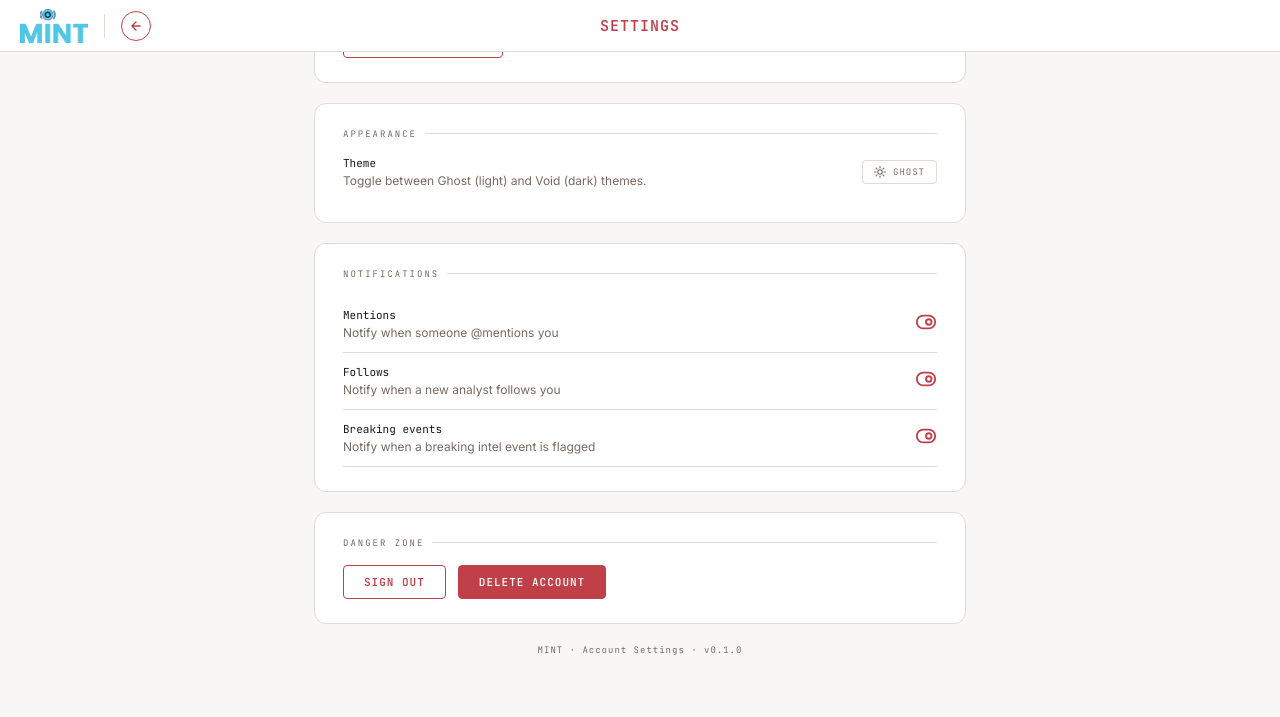
it: SettingsPage › CANCEL in confirmation panel hides it again
(page scrolled)
Click the button "DELETE ACCOUNT" at (532, 582), box [458,565,606,599]
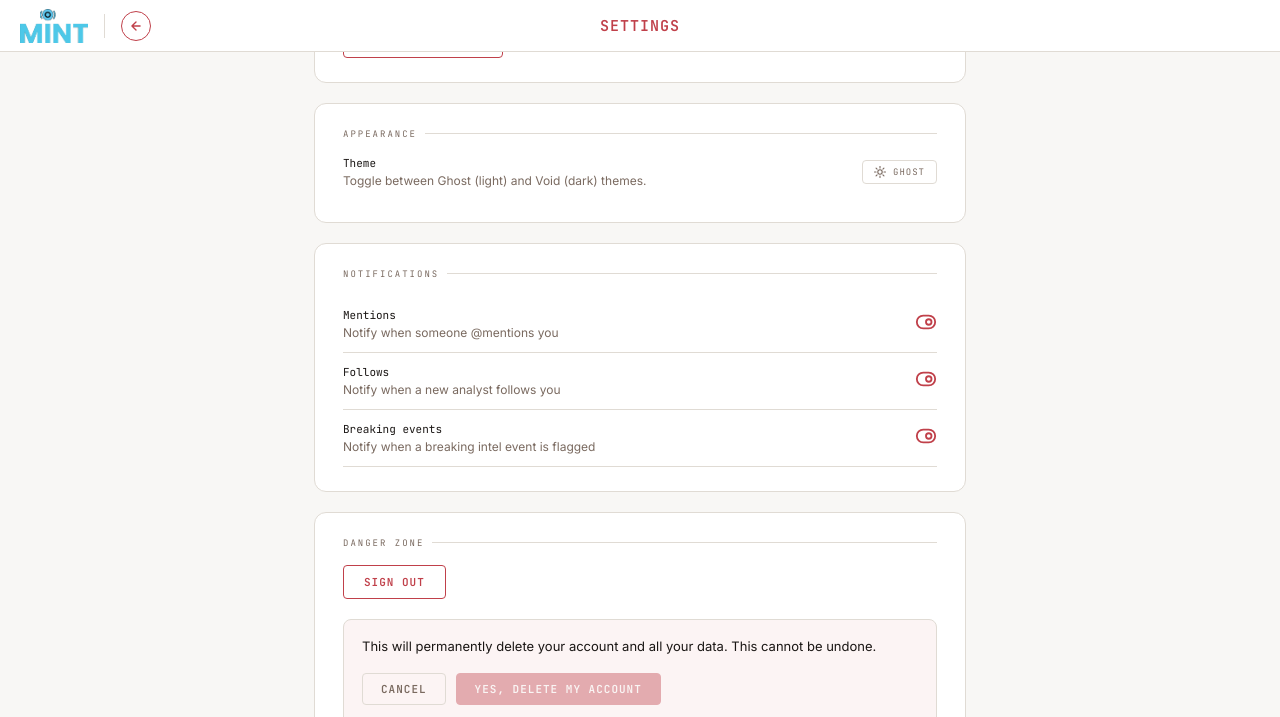
Click the button "CANCEL" at (404, 689), box [362,673,446,705]
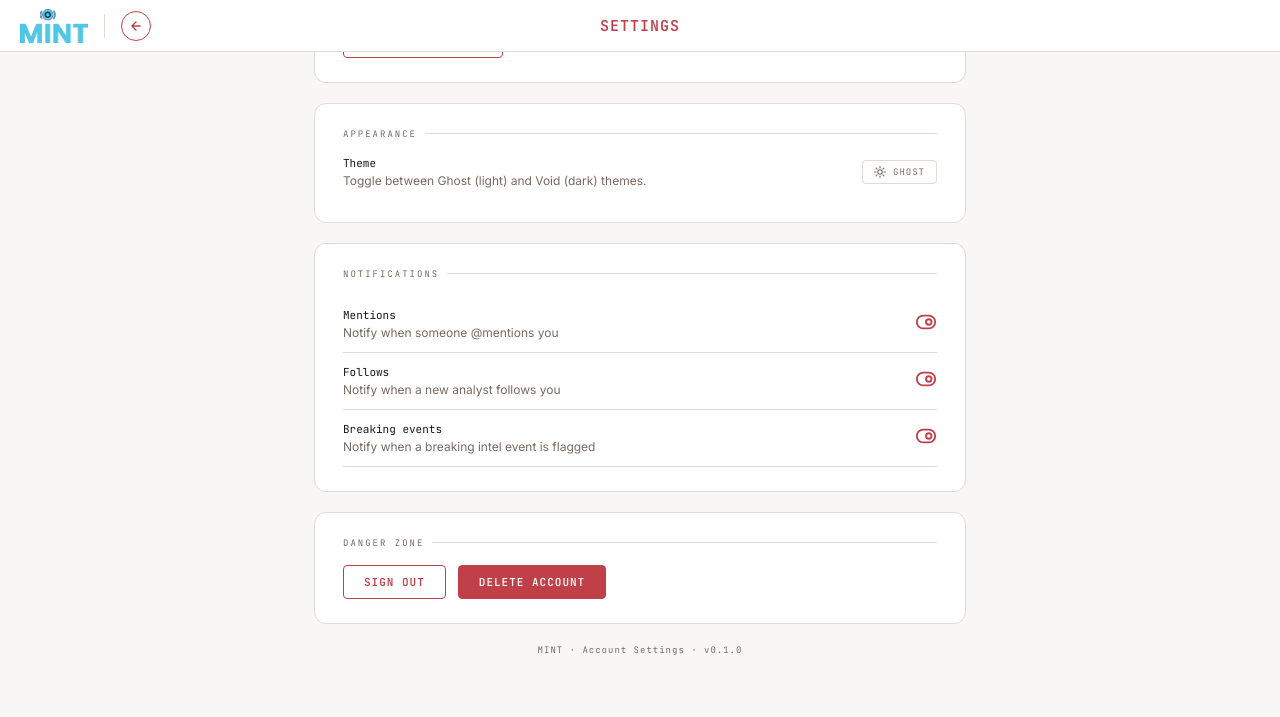
Expected: the text "This will permanently delete your account" is gone
